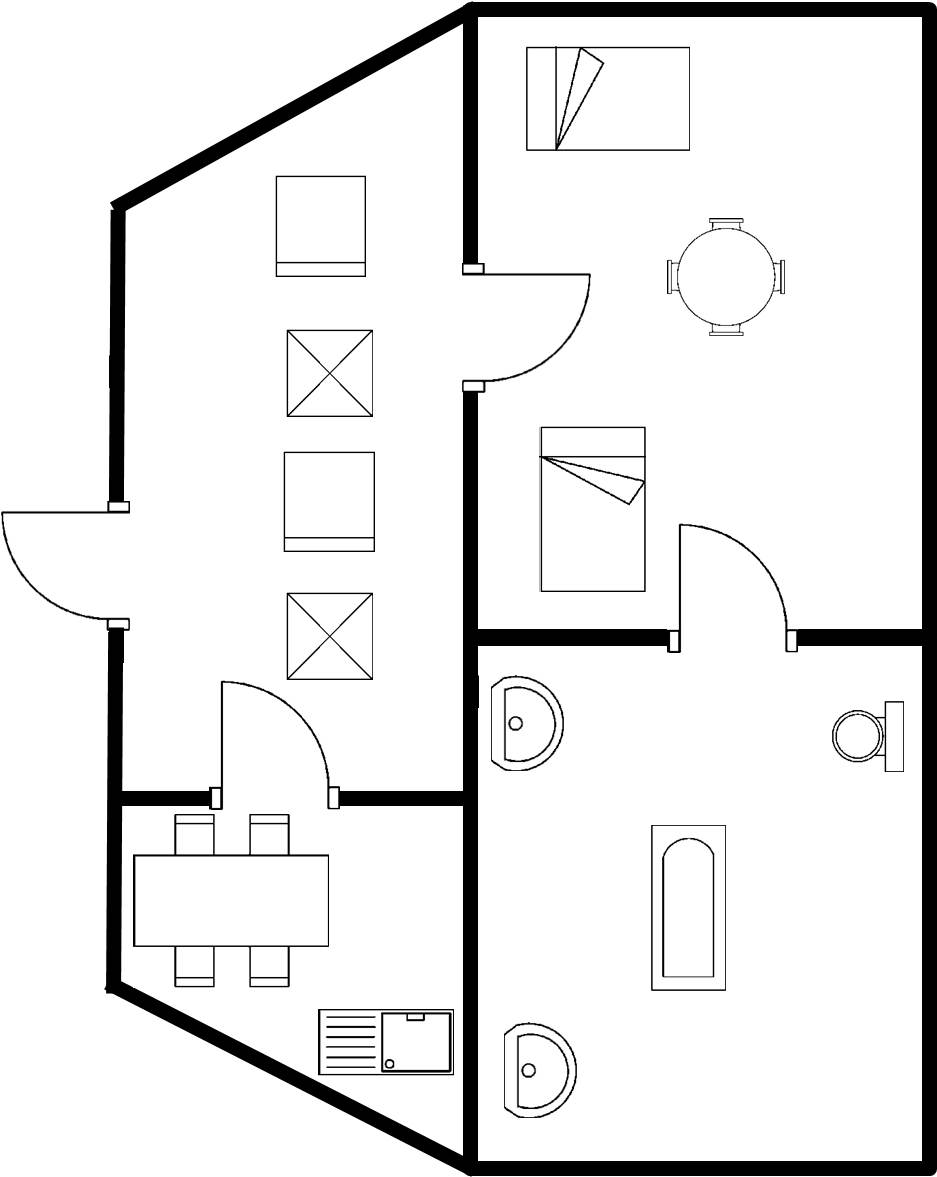bed: (531, 419, 657, 602), (516, 41, 697, 161)
coffee_table: (278, 321, 385, 426), (277, 585, 380, 689)
dining_table: (126, 810, 342, 995)
large_sink: (820, 693, 912, 785)
round_table: (657, 208, 796, 343)
sink: (308, 1001, 461, 1084)
small_sink: (481, 669, 571, 781), (495, 1016, 577, 1126)
small_sofa: (265, 166, 378, 287), (273, 443, 386, 561)
tub: (639, 818, 741, 1004)
